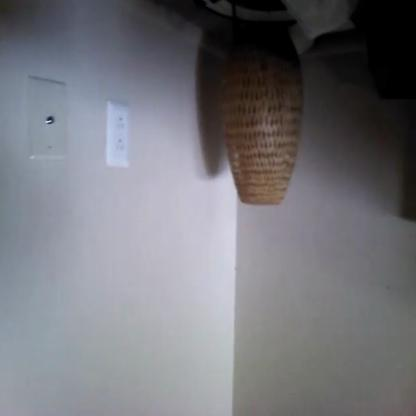OUTLET: (107, 103, 129, 169)
